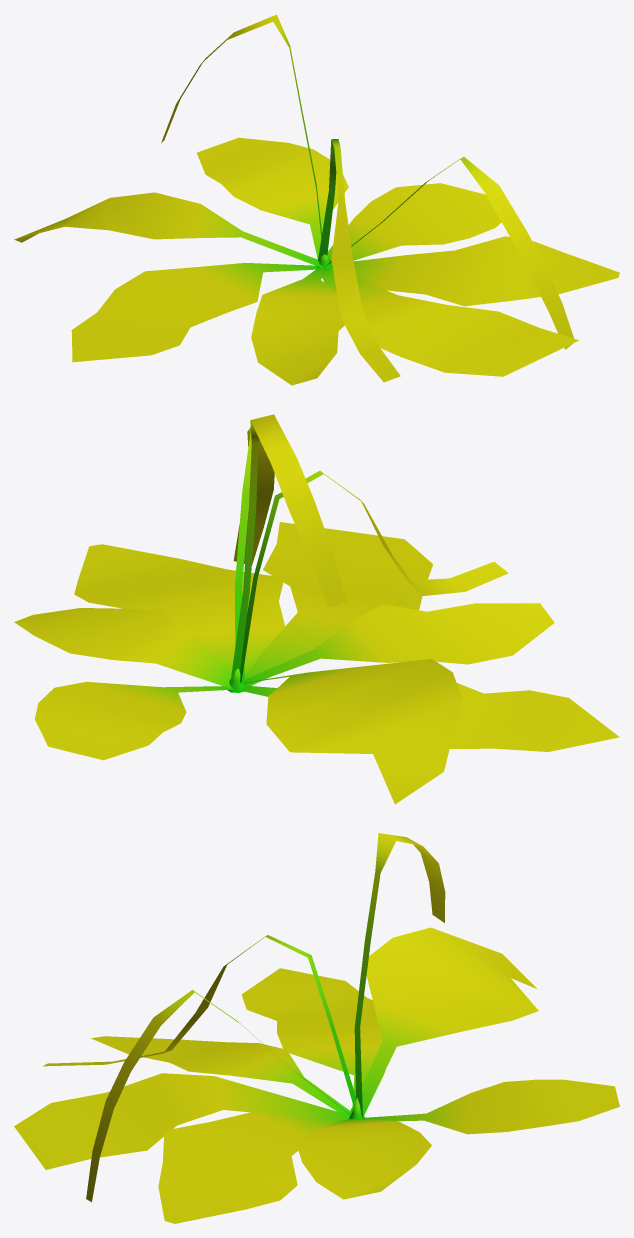
The model's file is Broadleaf Plantain_LOD1_Var4_sfhjc.fbx.
The picture shows the model from 3 angles, top to bottom: view 1: azimuth 30°, elevation 25°; view 2: azimuth 150°, elevation 25°; view 3: azimuth 270°, elevation 25°; orthographic projection. The views are drawn at different scales.
Visible parts, largest first — view 1: _a371_Var4_LOD1; view 2: _a371_Var4_LOD1; view 3: _a371_Var4_LOD1.
Part boxes in pixels (x1,y1,x2,y2): _a371_Var4_LOD1: (14, 14, 619, 385); _a371_Var4_LOD1: (14, 414, 619, 804); _a371_Var4_LOD1: (14, 833, 619, 1223).
Size of the model in its own units: 19.46 by 9.94 by 19.16.
